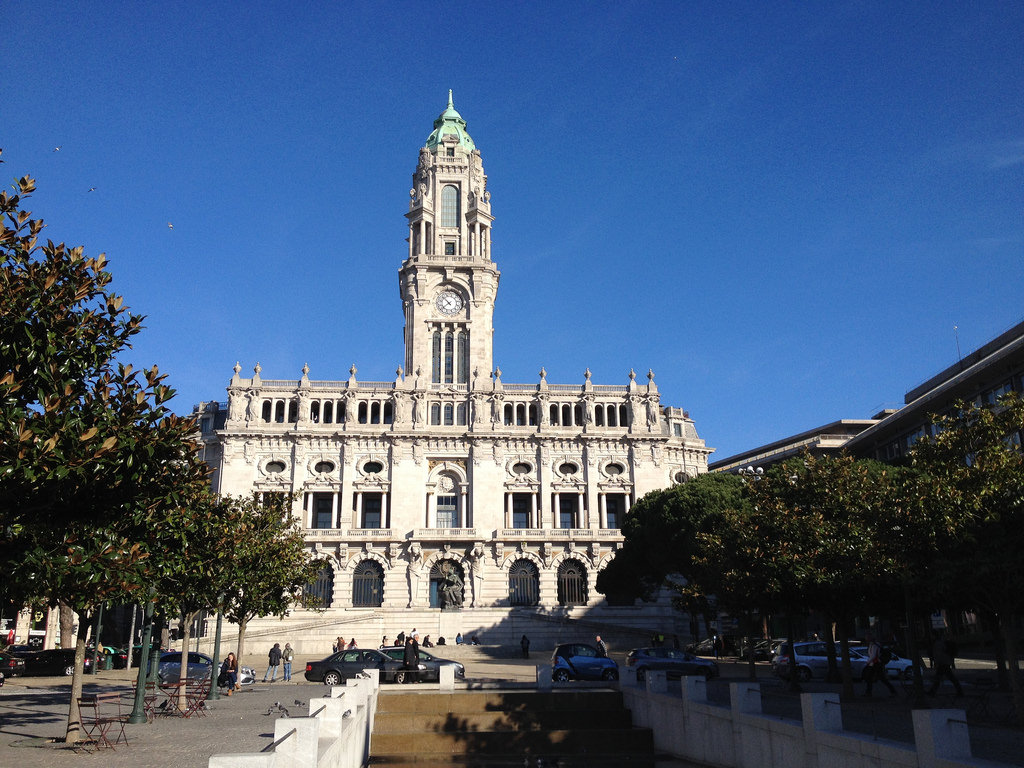camara: (166, 89, 741, 647)
